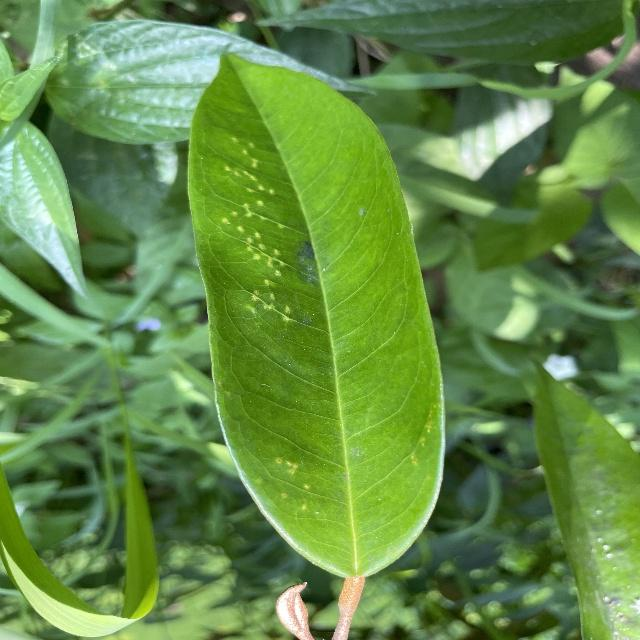Leaf Spot: (179, 44, 459, 595)
